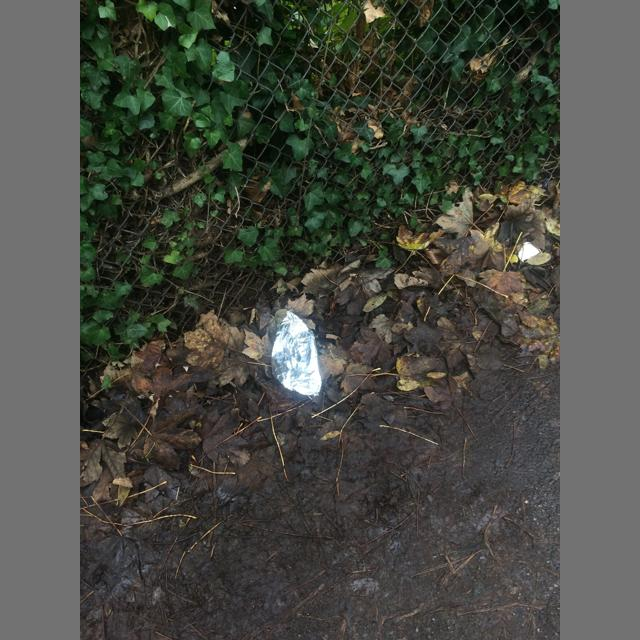litter: (271, 309, 322, 396)
